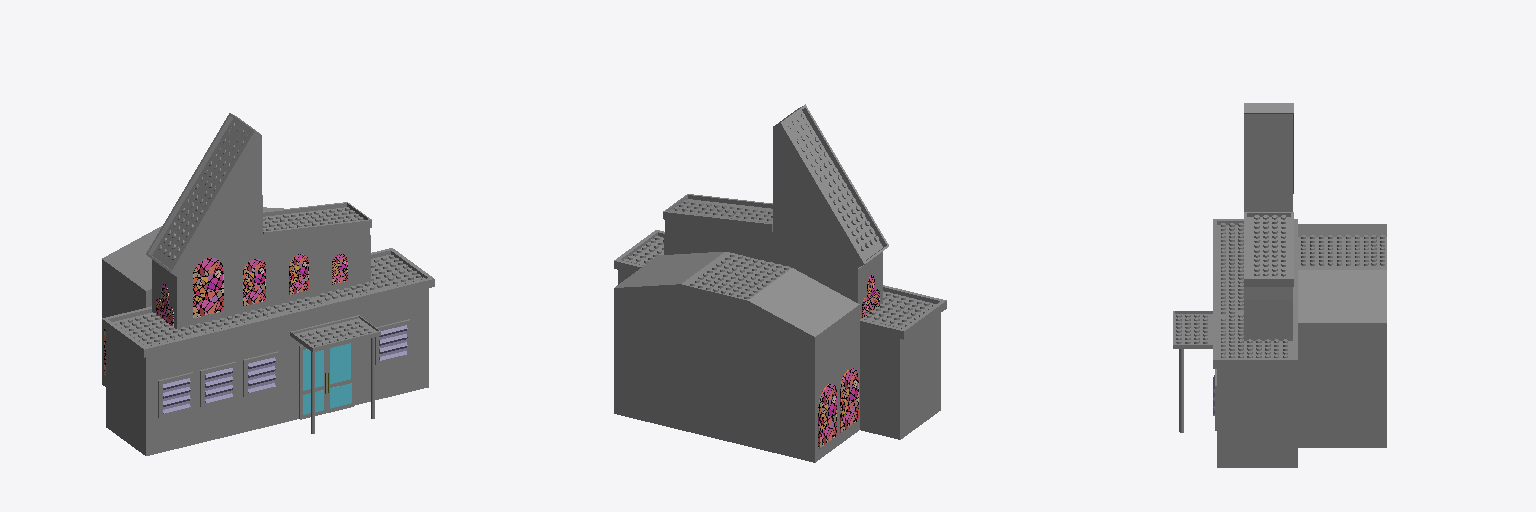
3 views of the same model, side by side, from view 1: azimuth 30°, elevation 25°; view 2: azimuth 150°, elevation 25°; view 3: azimuth 270°, elevation 25° (orthographic).
Visible parts, largest first — view 1: Iglesia008, Iglesia009, Techo, Techo003, Iglesia002, Techo002, Cilinros_Iglesia, Box105, Iglesia007, Cilinros_Iglesia009, Techo001, Puerta_Principal001 (+13 smaller); view 2: Iglesia007, Iglesia009, Iglesia002, Iglesia008, Techo003, Techo, Techo002, Cilinros_Iglesia009, Box113, Box112, Cilinros_Iglesia, Cilinros_Iglesia006 (+1 smaller); view 3: Iglesia007, Iglesia008, Iglesia002, Iglesia009, Techo, Techo002, Cilinros_Iglesia, Cilinros_Iglesia001, Techo001, Cilinros_Iglesia004, Techo003, Cilinros_Iglesia003 (+2 smaller).
Part boxes in pixels (x1,y1,x2,y2): Iglesia008: (106,288,428,455); Iglesia009: (152,136,370,329); Techo: (102,248,434,357); Techo003: (146,113,261,276); Iglesia002: (102,207,283,298); Techo002: (263,202,371,240); Cilinros_Iglesia: (113,286,364,346); Box105: (193,258,223,318); Iglesia007: (102,267,151,386); Cilinros_Iglesia009: (157,123,247,260); Techo001: (290,315,380,351); Puerta_Principal001: (299,343,353,419); Iglesia007: (614,292,859,462); Iglesia009: (664,128,882,318); Iglesia002: (614,252,859,344); Iglesia008: (618,270,940,439); Techo003: (773,104,888,268); Techo: (614,230,946,339); Techo002: (663,194,772,232); Cilinros_Iglesia009: (785,114,878,253); Box113: (840,368,858,432); Box112: (818,384,836,448); Cilinros_Iglesia: (862,292,935,328); Cilinros_Iglesia006: (716,253,788,279); Iglesia007: (1298,331,1386,447); Iglesia008: (1217,369,1297,467); Iglesia002: (1298,224,1386,330); Iglesia009: (1244,114,1292,340); Techo: (1213,219,1297,368); Techo002: (1244,212,1293,286); Cilinros_Iglesia: (1221,223,1243,331); Cilinros_Iglesia001: (1221,332,1287,358); Techo001: (1173,311,1212,348); Cilinros_Iglesia004: (1254,215,1285,252); Techo003: (1244,103,1293,193); Cilinros_Iglesia003: (1176,314,1207,343).
Bounding box in the file's own units: 75 × 70.6 × 47.99.
Materials: 6 (3 with a texture image).